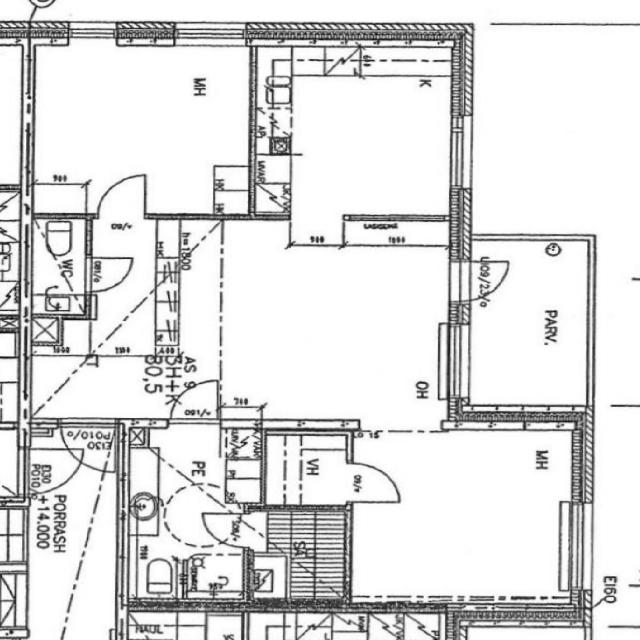door: (450, 261, 522, 301), (61, 418, 114, 472), (347, 462, 400, 502), (171, 380, 218, 424), (98, 176, 144, 219), (203, 514, 249, 547), (85, 258, 132, 290)
